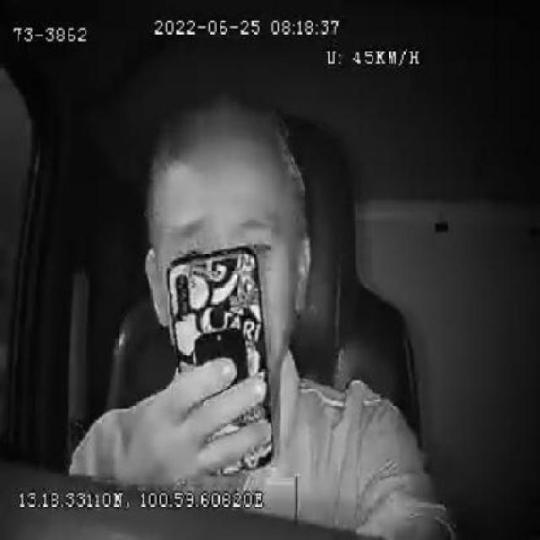phone: (164, 244, 275, 472)
